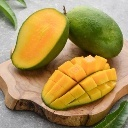mango: (11, 6, 69, 71)
